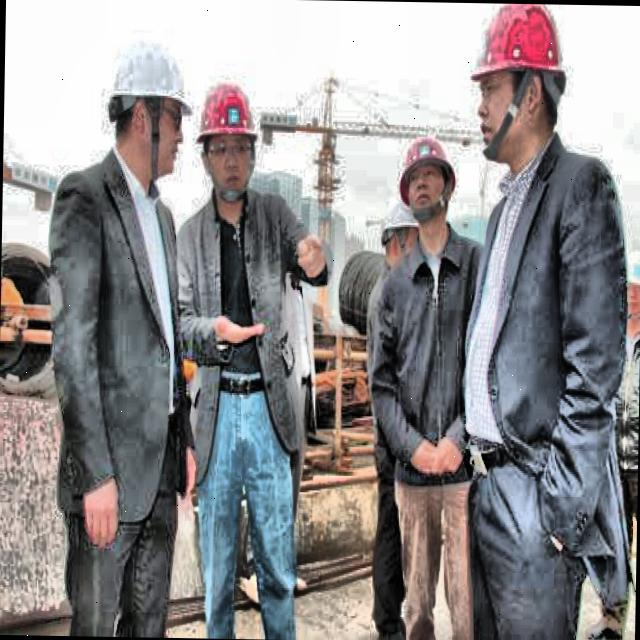helmet: (470, 4, 570, 168), (102, 42, 194, 182), (194, 80, 260, 200), (398, 132, 458, 222), (378, 203, 421, 271)
